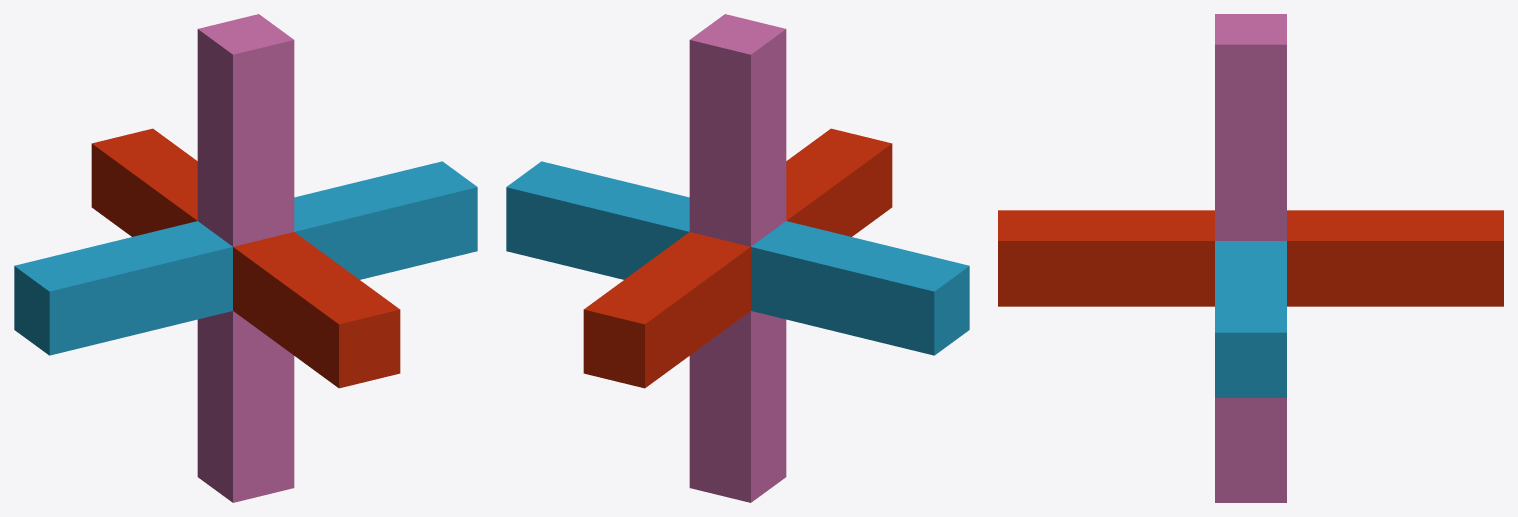
3 views of the same model, side by side, from view 1: azimuth 30°, elevation 25°; view 2: azimuth 150°, elevation 25°; view 3: azimuth 270°, elevation 25° (orthographic). The views are drawn at different scales.
Parts seen in each view (by area): view 1: Cube_3, Cube_3_10, Cube_0, Cube_3_9, Cube_3_5, Cube_3_4, Cube_3_8, Cube_6, Cube_1, Cube_5, Cube_2, Cube_3_13 (+6 smaller); view 2: Cube_3_10, Cube_3_13, Cube_0, Cube_3_9, Cube_3_5, Cube_3_4, Cube_3_8, Cube_6, Cube_1, Cube_5, Cube_2, Cube_3 (+6 smaller); view 3: Cube_3, Cube_3_2, Cube_3_3, Cube_3_11, Cube_3_12, Cube_3_13, Cube_6, Cube_3_10, Cube_3_4, Cube_3_8, Cube_3_9, Cube_3_5 (+2 smaller).
Part boxes in pixels (<box>): Cube_3: <box>303,283,400,388</box>; Cube_3_10: <box>197,14,294,118</box>; Cube_0: <box>14,251,110,355</box>; Cube_3_9: <box>197,93,294,182</box>; Cube_3_5: <box>197,349,294,438</box>; Cube_3_4: <box>197,413,294,502</box>; Cube_3_8: <box>197,157,294,246</box>; Cube_6: <box>381,161,477,265</box>; Cube_1: <box>76,236,171,340</box>; Cube_5: <box>320,176,416,279</box>; Cube_2: <box>137,221,232,325</box>; Cube_3_13: <box>91,128,187,232</box>; Cube_3_10: <box>689,14,786,118</box>; Cube_3_13: <box>583,283,680,388</box>; Cube_0: <box>873,251,969,355</box>; Cube_3_9: <box>689,93,786,182</box>; Cube_3_5: <box>689,349,786,438</box>; Cube_3_4: <box>689,413,786,502</box>; Cube_3_8: <box>689,157,786,246</box>; Cube_6: <box>506,161,602,265</box>; Cube_1: <box>812,236,907,340</box>; Cube_5: <box>567,176,663,279</box>; Cube_2: <box>751,221,846,325</box>; Cube_3: <box>796,128,892,232</box>; Cube_3: <box>998,210,1070,306</box>; Cube_3_2: <box>1070,210,1142,306</box>; Cube_3_3: <box>1142,210,1214,306</box>; Cube_3_11: <box>1287,210,1359,306</box>; Cube_3_12: <box>1359,210,1431,306</box>; Cube_3_13: <box>1431,210,1503,306</box>; Cube_6: <box>1215,302,1286,397</box>; Cube_3_10: <box>1215,14,1286,109</box>; Cube_3_4: <box>1215,437,1286,502</box>; Cube_3_8: <box>1215,175,1286,240</box>; Cube_3_9: <box>1215,110,1286,175</box>; Cube_3_5: <box>1215,398,1286,437</box>.
Size of the model in its own units: 1050 by 1050 by 1050.
